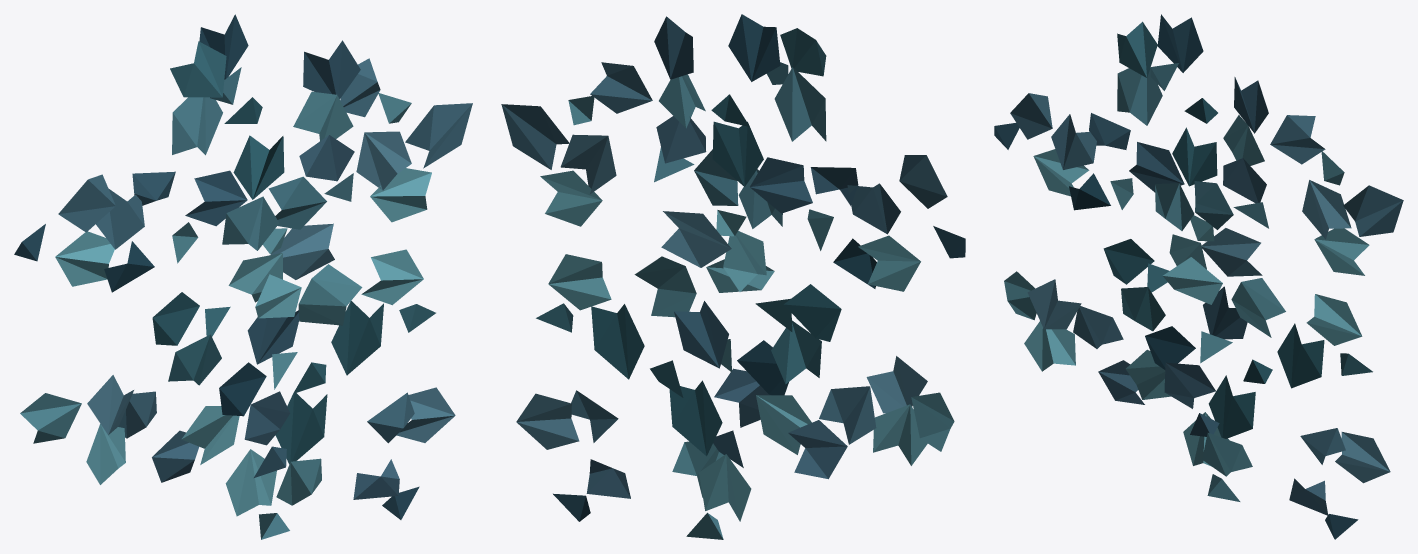
Rendered from SM_Env_Ivy_06.fbx.
3 views of the same model, side by side, from view 1: azimuth 30°, elevation 25°; view 2: azimuth 150°, elevation 25°; view 3: azimuth 330°, elevation 25° (orthographic). The views are drawn at different scales.
Visible parts, largest first — view 1: SM_Env_Ivy_06; view 2: SM_Env_Ivy_06; view 3: SM_Env_Ivy_06.
Part boxes in pixels (bbox=[...]): SM_Env_Ivy_06: bbox=[14, 14, 472, 539]; SM_Env_Ivy_06: bbox=[501, 14, 965, 539]; SM_Env_Ivy_06: bbox=[994, 14, 1403, 539].
Size of the model in its own units: 2.72 by 3.08 by 0.2952.
Materials: 1 (1 with a texture image).
